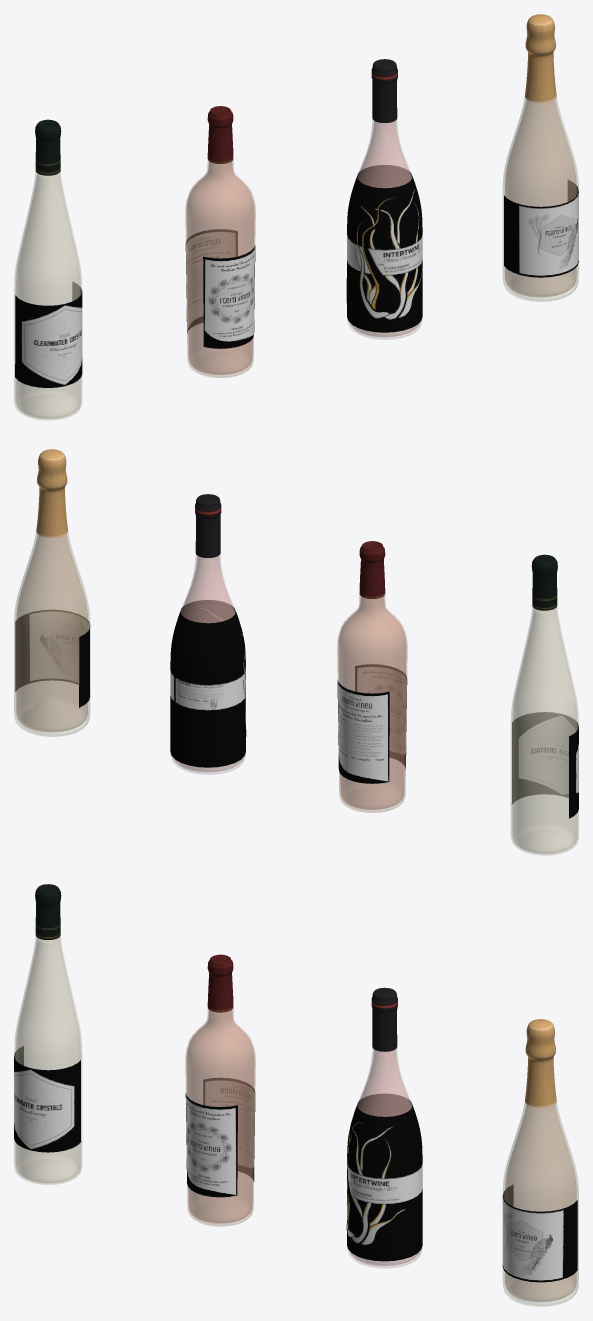
File: wine_bottles_01.glb
3 renders of one model, top to bottom at view 1: azimuth 30°, elevation 25°; view 2: azimuth 150°, elevation 25°; view 3: azimuth 330°, elevation 25°, orthographic.
Visible parts, largest first — view 1: wine_bottles_01_champagne, wine_bottles_01_alsace, wine_bottles_01_burgundy, wine_bottles_01_bordeaux; view 2: wine_bottles_01_champagne, wine_bottles_01_alsace, wine_bottles_01_burgundy, wine_bottles_01_bordeaux; view 3: wine_bottles_01_champagne, wine_bottles_01_alsace, wine_bottles_01_burgundy, wine_bottles_01_bordeaux.
Part boxes in pixels (x1,y1,x2,y2): wine_bottles_01_champagne: [503, 14, 578, 301]; wine_bottles_01_alsace: [14, 119, 82, 420]; wine_bottles_01_burgundy: [346, 59, 422, 339]; wine_bottles_01_bordeaux: [185, 106, 255, 377]; wine_bottles_01_champagne: [14, 449, 90, 736]; wine_bottles_01_alsace: [511, 554, 578, 855]; wine_bottles_01_burgundy: [170, 494, 246, 774]; wine_bottles_01_bordeaux: [337, 541, 407, 812]; wine_bottles_01_champagne: [502, 1019, 578, 1306]; wine_bottles_01_alsace: [14, 884, 81, 1184]; wine_bottles_01_burgundy: [346, 987, 422, 1268]; wine_bottles_01_bordeaux: [185, 954, 255, 1226].
Size of the model in its own units: 0.6763 by 0.3314 by 0.0805.
12 materials, 9 textured.
